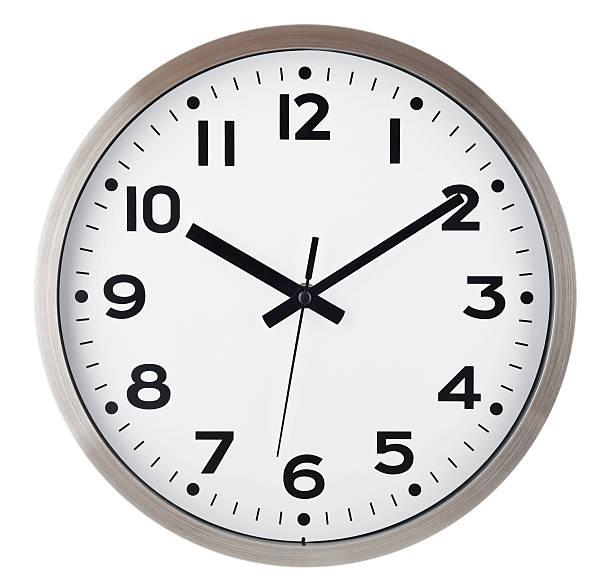clock: (41, 2, 577, 585)
